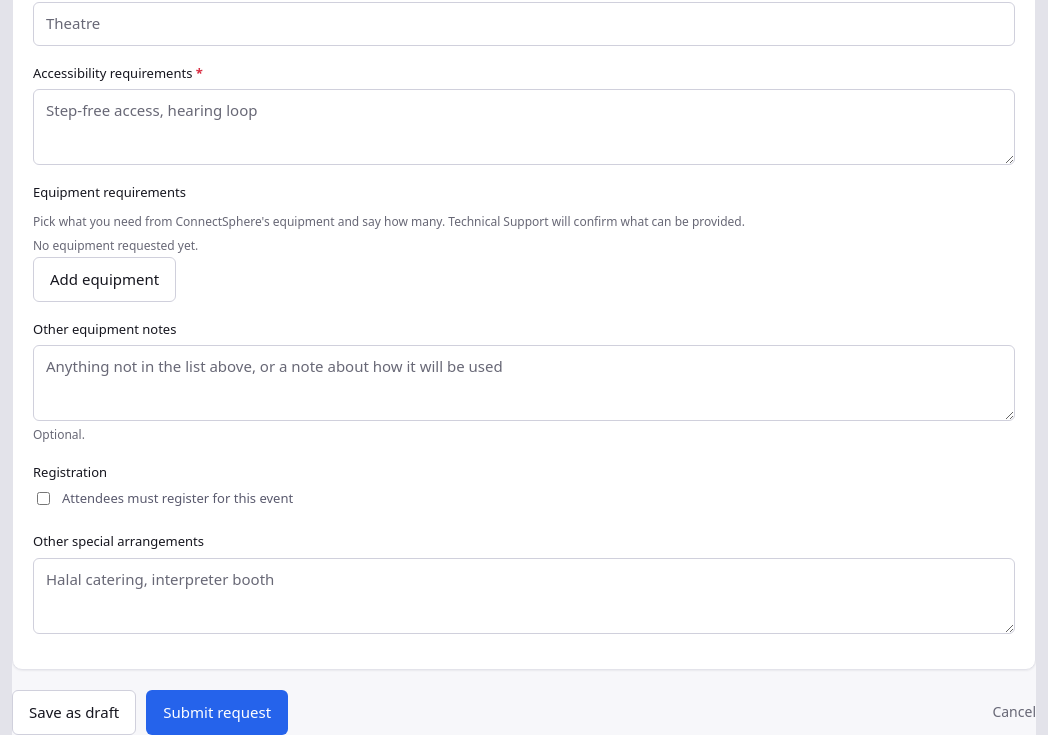
Test case: Story 2 AC1 - submitting an incomplete request is blocked and the gaps are flagged › TC-S2-1d: summarises how many fields are still incomplete
(page scrolled)
Click the button "Submit request" at coordinates (217, 712), box top-left (146, 690), bottom-right (288, 734)
(page scrolled)
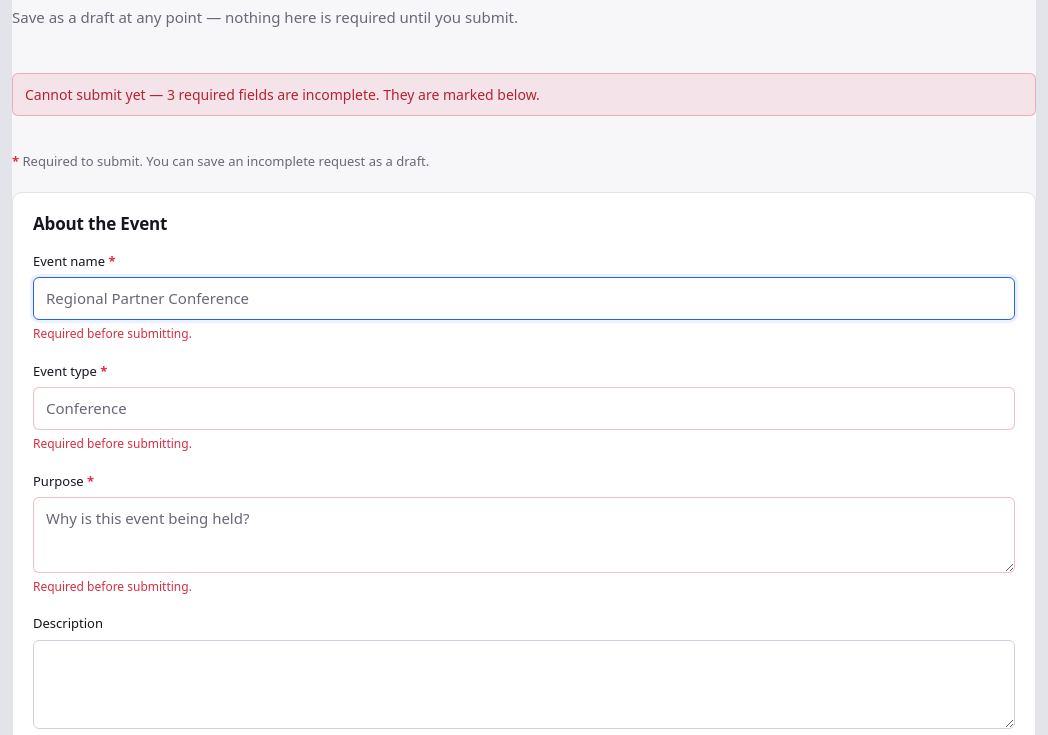
Check: the message shows "3 required fields are incomplete", box top-left (25, 85), bottom-right (540, 104)
